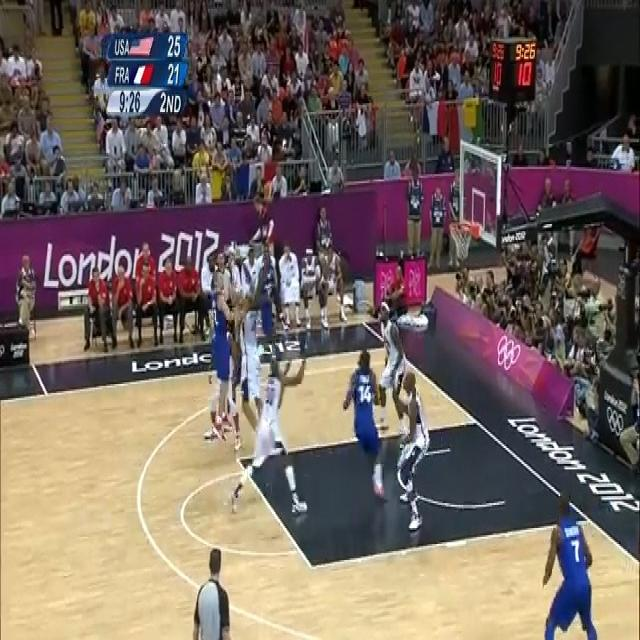hoop: (450, 220, 475, 256)
person: (540, 495, 600, 639), (343, 349, 384, 499), (191, 548, 233, 640), (15, 253, 36, 339), (104, 117, 126, 192), (38, 113, 64, 175), (192, 139, 213, 204), (4, 121, 26, 170), (60, 174, 86, 214), (610, 130, 636, 168), (384, 150, 401, 179)
